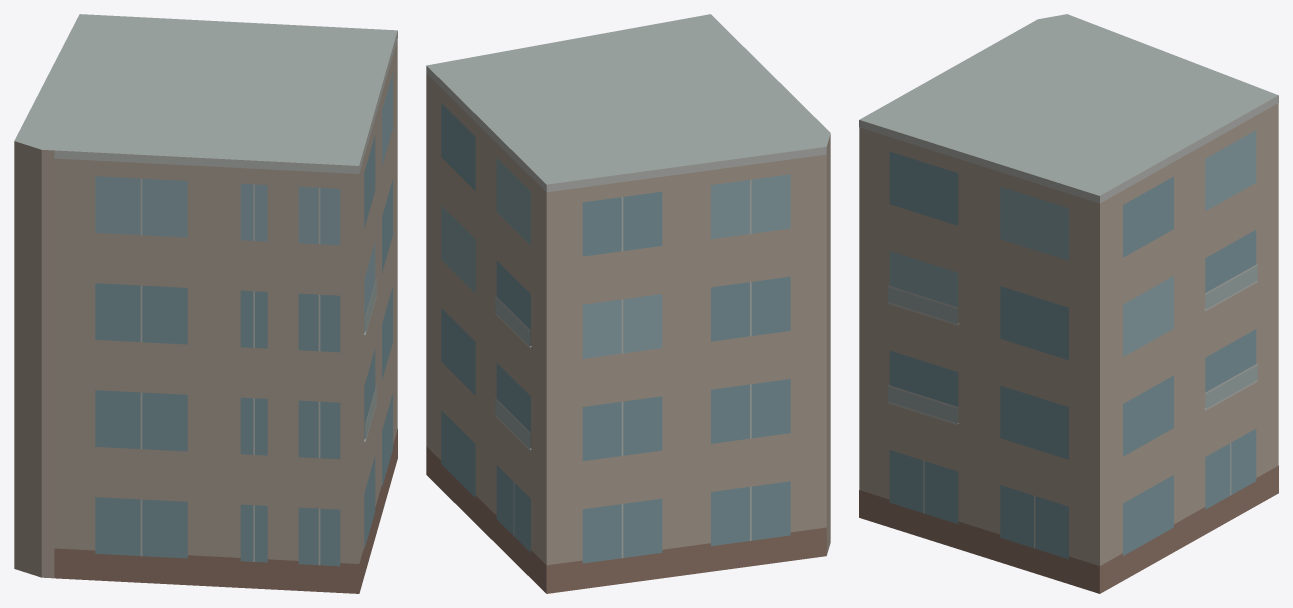
The model's file is survey-upis-33007901.glb.
3 views of the same model, side by side, from view 1: azimuth 30°, elevation 25°; view 2: azimuth 150°, elevation 25°; view 3: azimuth 270°, elevation 25° (orthographic). The views are drawn at different scales.
Parts seen in each view (by area): view 1: survey-upis-33007901.tmp; view 2: survey-upis-33007901.tmp; view 3: survey-upis-33007901.tmp.
Boxes of the visible parts, x1,y1,x2,y2 form: survey-upis-33007901.tmp: (14,14,397,593); survey-upis-33007901.tmp: (426,14,830,593); survey-upis-33007901.tmp: (859,14,1278,593).
Size of the model in its own units: 12.66 by 12.9 by 12.34.
